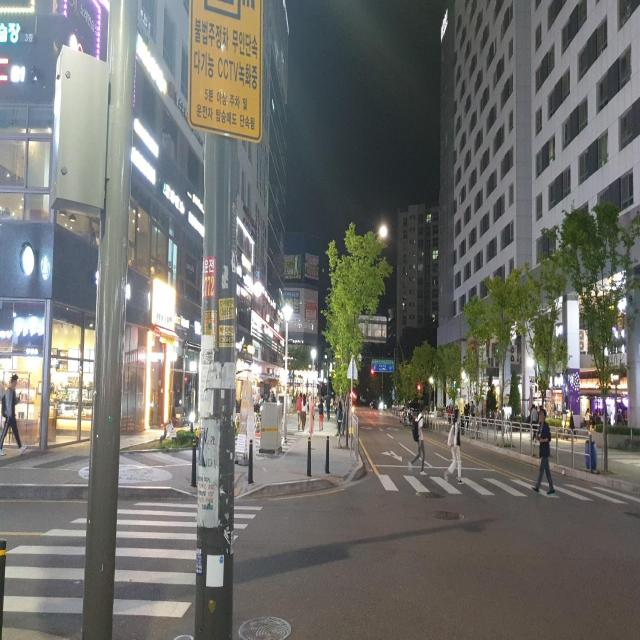횡단보도: (2, 499, 264, 621), (382, 476, 640, 506)
